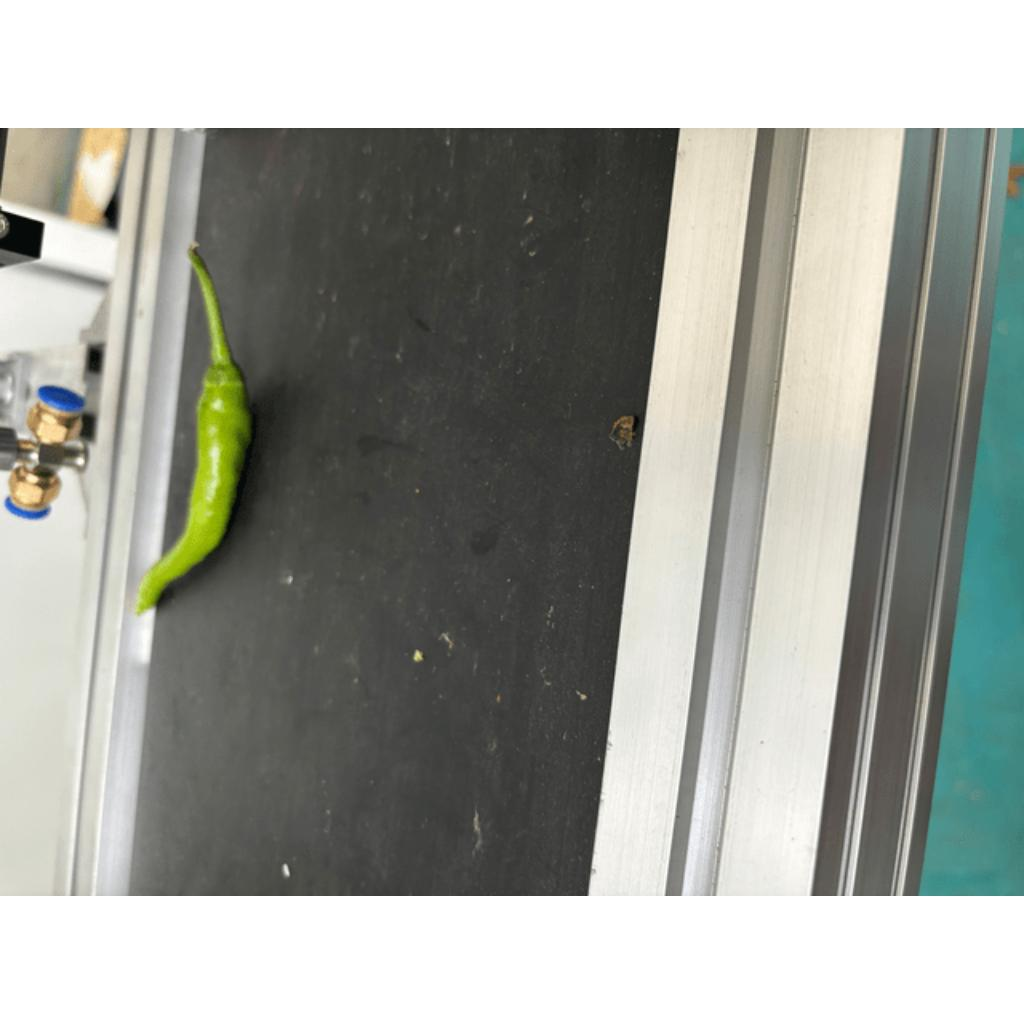chili: (129, 360, 257, 623)
